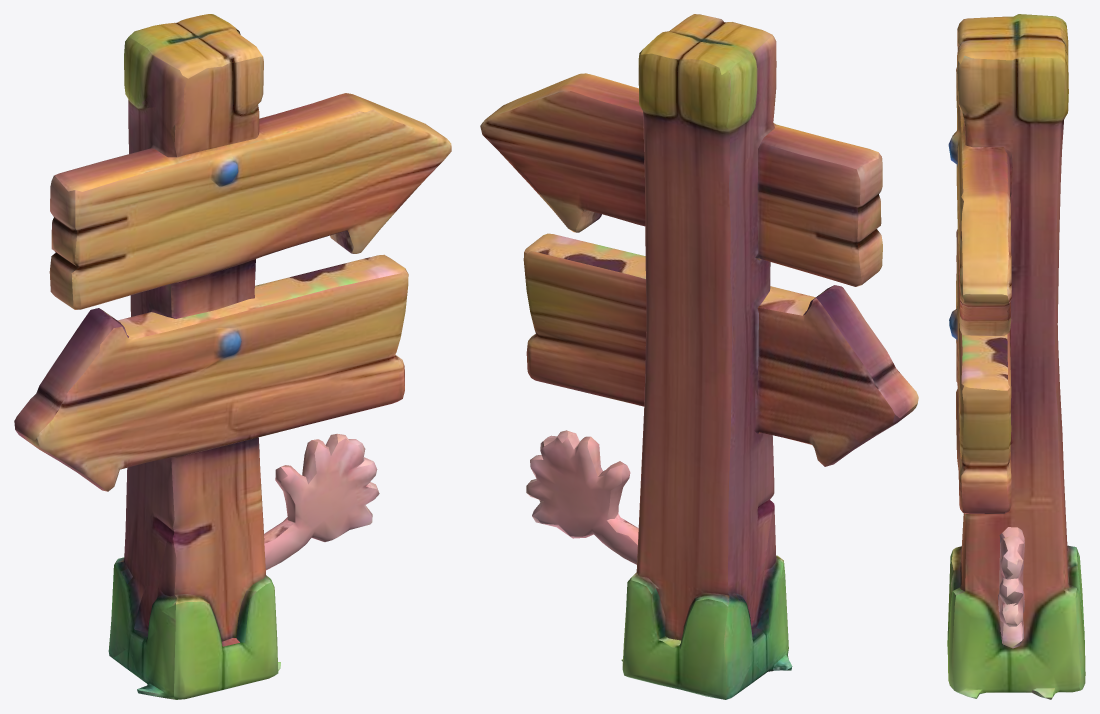
The model's file is signpost.glb.
3 renders of one model, left to right at view 1: azimuth 30°, elevation 25°; view 2: azimuth 150°, elevation 25°; view 3: azimuth 270°, elevation 25°, orthographic.
Parts seen in each view (by area): view 1: signpost_s15; view 2: signpost_s15; view 3: signpost_s15.
Boxes of the visible parts, x1=… form: signpost_s15: x1=14, y1=14, x2=451, y2=699; signpost_s15: x1=480, y1=14, x2=918, y2=699; signpost_s15: x1=947, y1=14, x2=1085, y2=699.
Size of the model in its own units: 0.6939 by 1 by 0.1969.
Materials: 1 (1 with a texture image).
